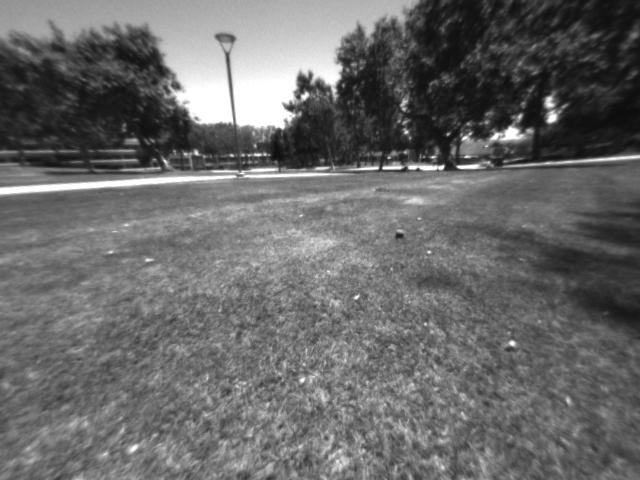dogtoy: (389, 223, 413, 242)
